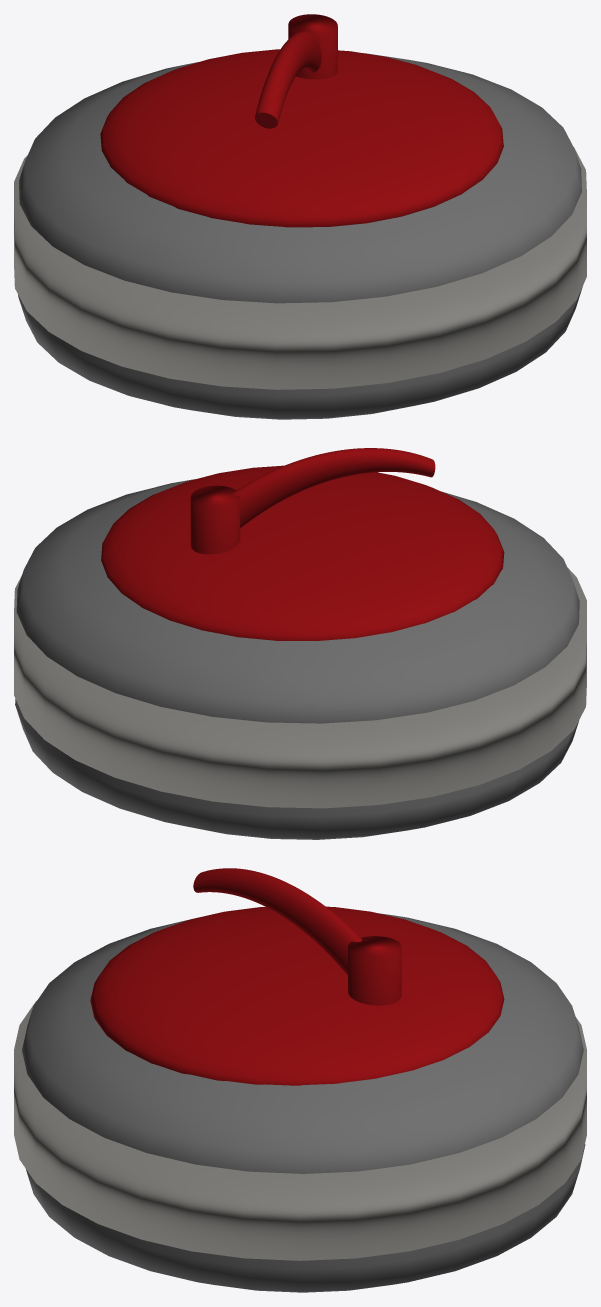
Rendered from red_rock_TEST_VRAI.glb.
3 views of the same model, one above another, from view 1: azimuth 30°, elevation 25°; view 2: azimuth 150°, elevation 25°; view 3: azimuth 270°, elevation 25° (orthographic). The views are drawn at different scales.
Visible parts, largest first — view 1: Sphere, Sphere.001, Cylinder.002, Cylinder, Cylinder.001; view 2: Sphere, Cylinder.002, Sphere.001, Cylinder, Cylinder.001; view 3: Sphere, Sphere.001, Cylinder.002, Cylinder, Cylinder.001.
Boxes of the visible parts, x1,y1,x2,y2 form: Sphere: (18, 53, 582, 419); Sphere.001: (100, 49, 503, 227); Cylinder.002: (14, 147, 586, 389); Cylinder: (255, 31, 321, 128); Cylinder.001: (288, 14, 337, 79); Sphere: (15, 479, 579, 839); Cylinder.002: (14, 567, 586, 808); Sphere.001: (101, 465, 504, 641); Cylinder: (232, 448, 435, 527); Cylinder.001: (190, 485, 240, 554); Sphere: (22, 913, 585, 1292); Sphere.001: (90, 906, 504, 1085); Cylinder.002: (14, 1001, 586, 1260); Cylinder: (193, 868, 362, 975); Cylinder.001: (348, 936, 401, 1005).
Size of the model in its own units: 2.37 by 1.37 by 2.28.
